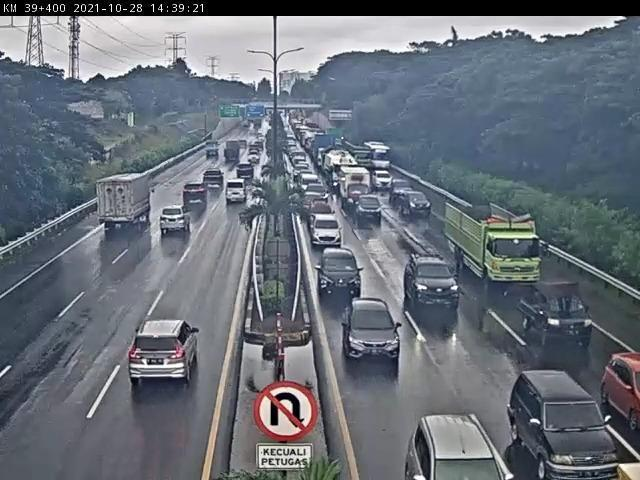car: (510, 369, 621, 478), (130, 320, 197, 386), (340, 295, 398, 357), (402, 250, 457, 305), (316, 247, 362, 295), (160, 203, 195, 233), (313, 212, 342, 246), (392, 192, 431, 216), (357, 194, 382, 217), (226, 180, 248, 204), (183, 184, 207, 204), (387, 178, 412, 197), (204, 169, 226, 190), (305, 191, 326, 211), (233, 166, 254, 185), (308, 199, 332, 215), (306, 184, 329, 200)
truck: (444, 200, 539, 287), (518, 284, 593, 344), (99, 174, 152, 228), (341, 170, 371, 205)
